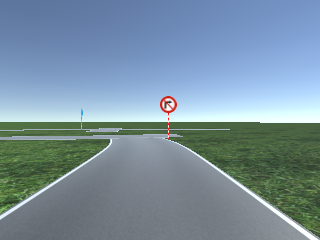-5: (1, 196, 320, 240)
NoRight: (159, 95, 177, 112)
